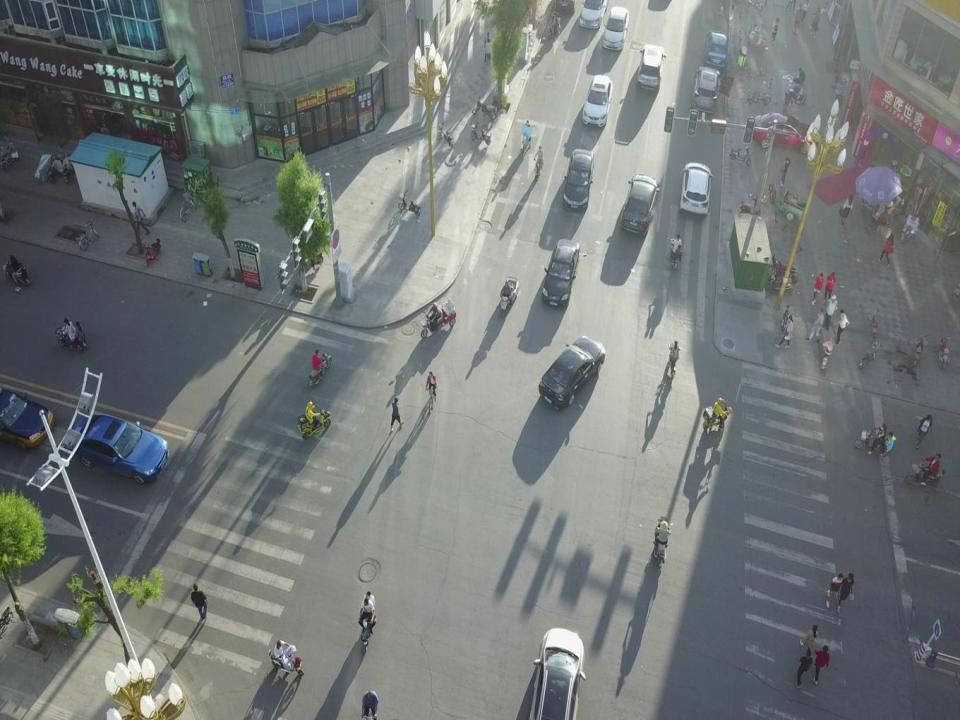car: (70, 411, 170, 485), (525, 627, 585, 720), (538, 334, 606, 409), (0, 386, 53, 449), (542, 238, 580, 308), (621, 174, 659, 236), (562, 149, 595, 211), (678, 161, 714, 217), (582, 73, 613, 128), (691, 66, 721, 114), (636, 44, 666, 90), (602, 6, 629, 50), (702, 31, 728, 71), (578, 0, 608, 29)
